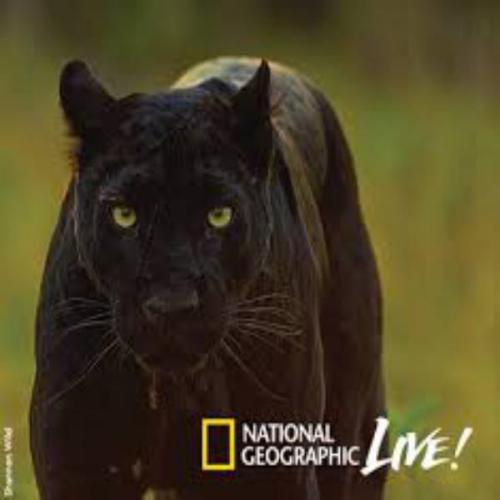panther-endangered: (26, 57, 389, 497)
